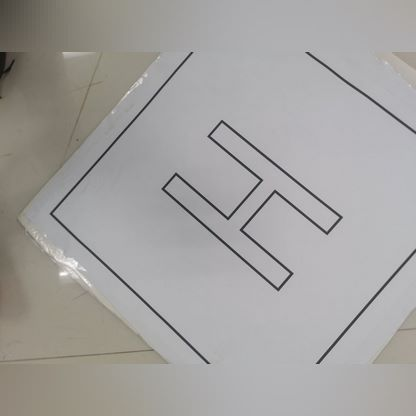H: (142, 106, 360, 303)
